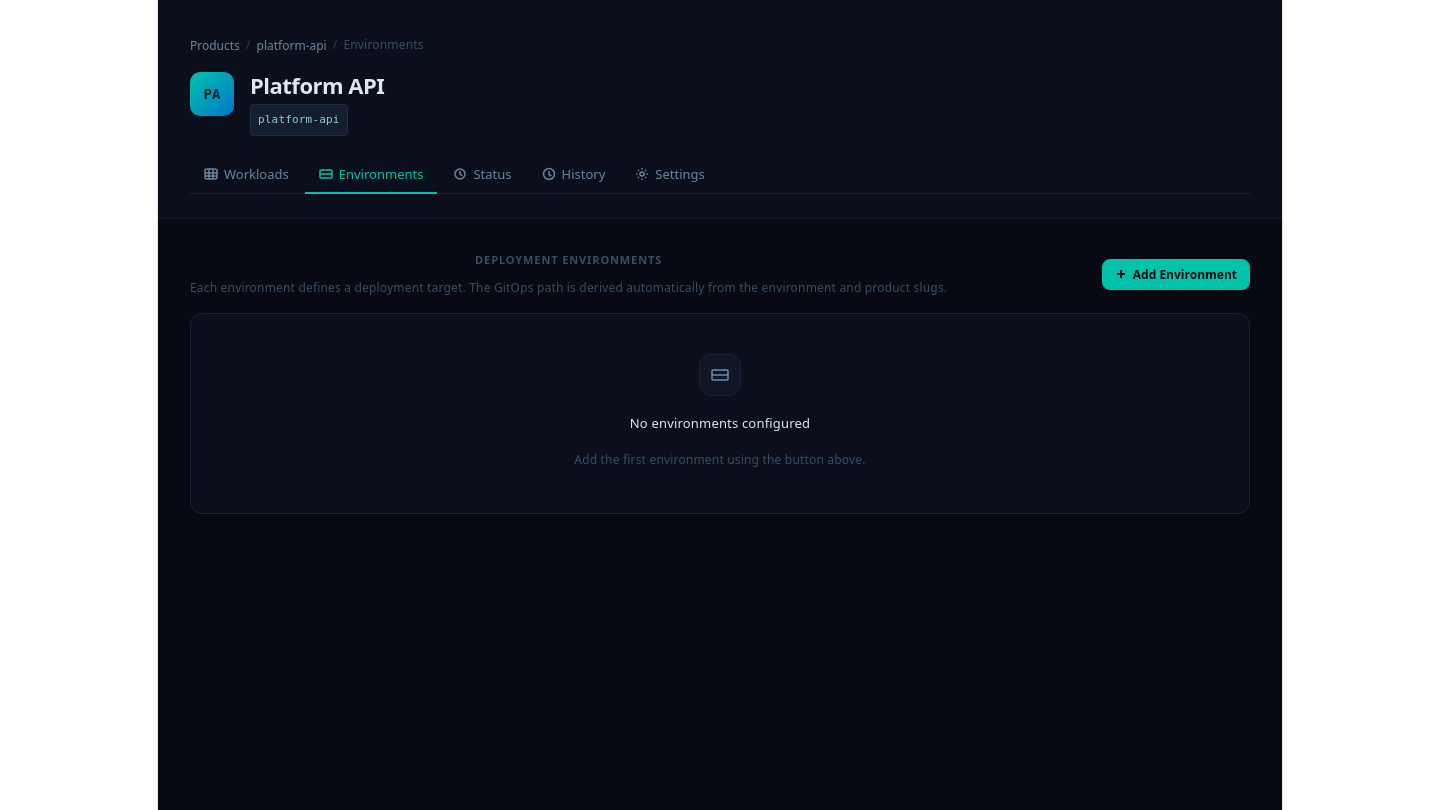
Test case: EnvironmentsPage — create flow (admin) › hides the form when Cancel is clicked
Click the button "Add Environment" at (1176, 274), box [1102,259,1250,290]
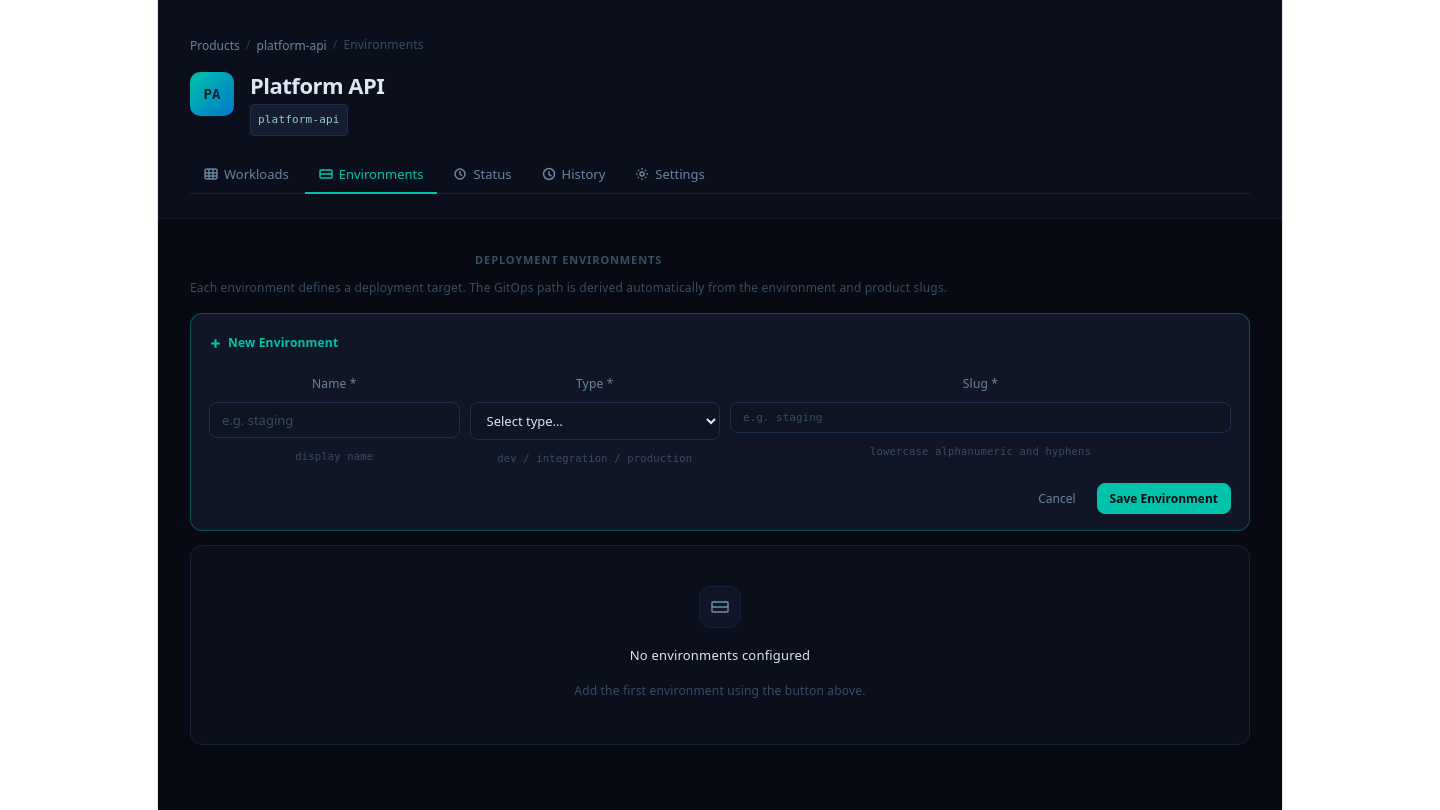
Expected: the text "New Environment" is shown, [209,334,338,352]
Click the button "Cancel" at (1057, 498), box [1025,483,1089,514]
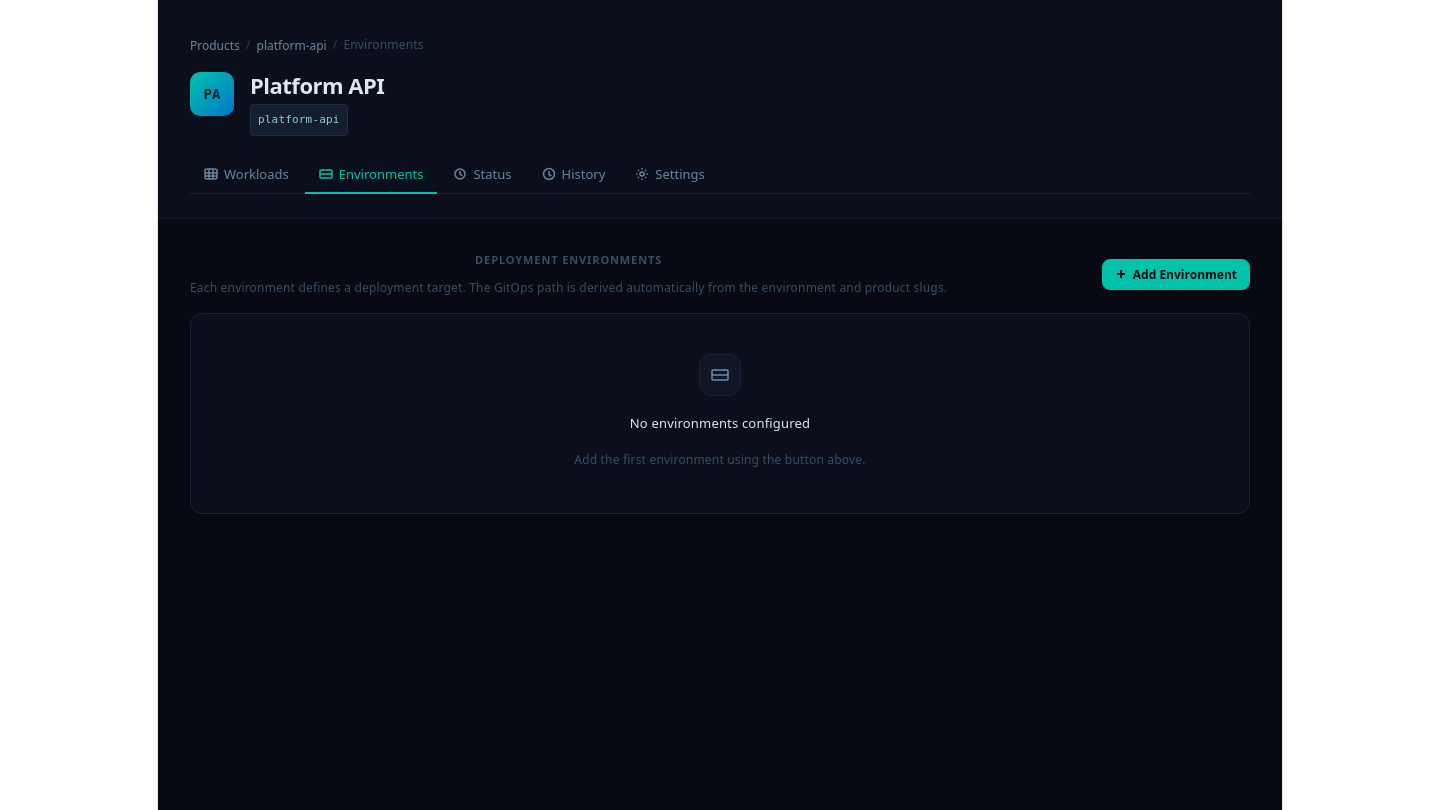
Expected: the text "New Environment" is gone
